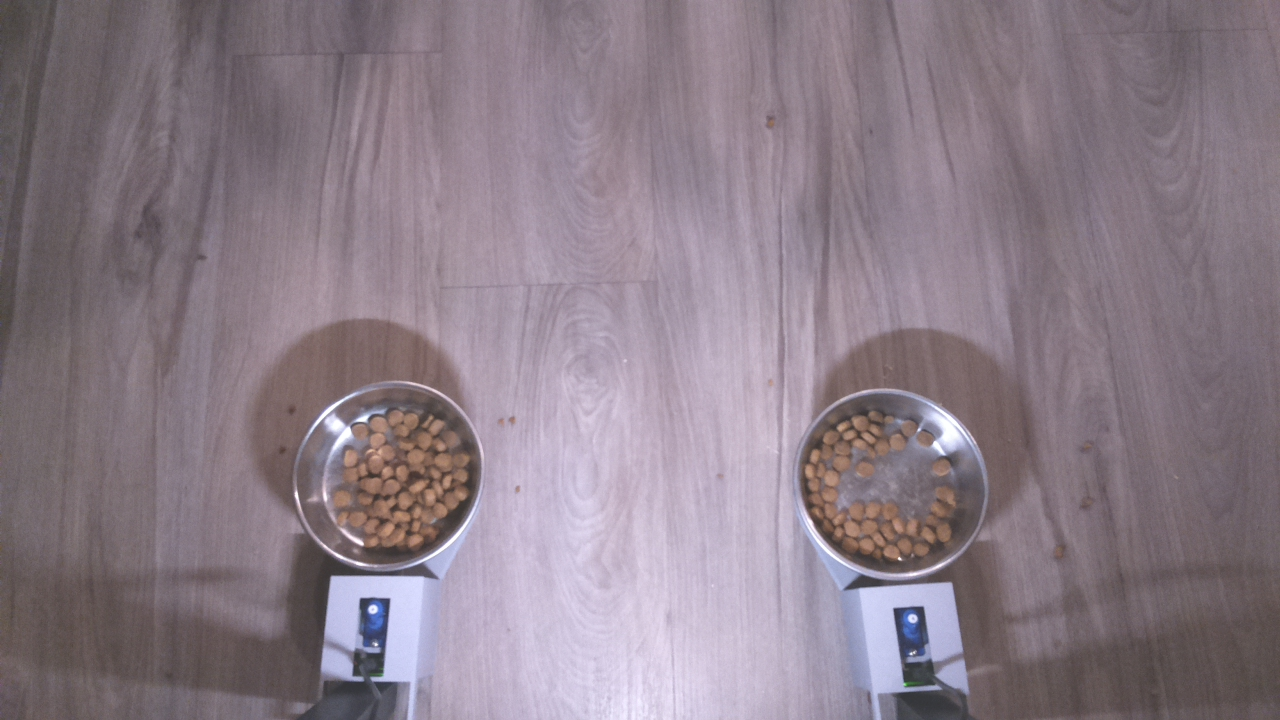open_bowl: (792, 383, 1000, 588), (284, 372, 487, 577)
